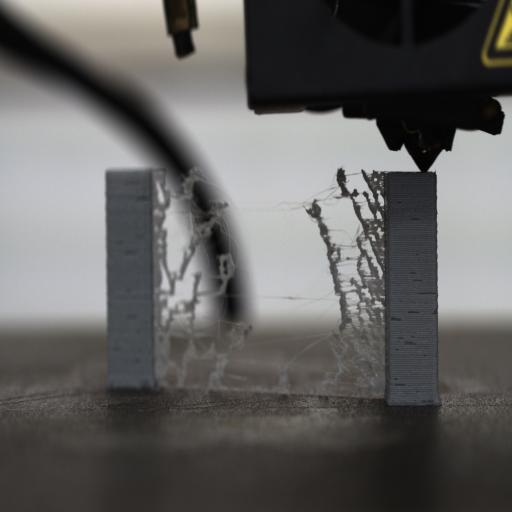stringing: (290, 166, 394, 396)
